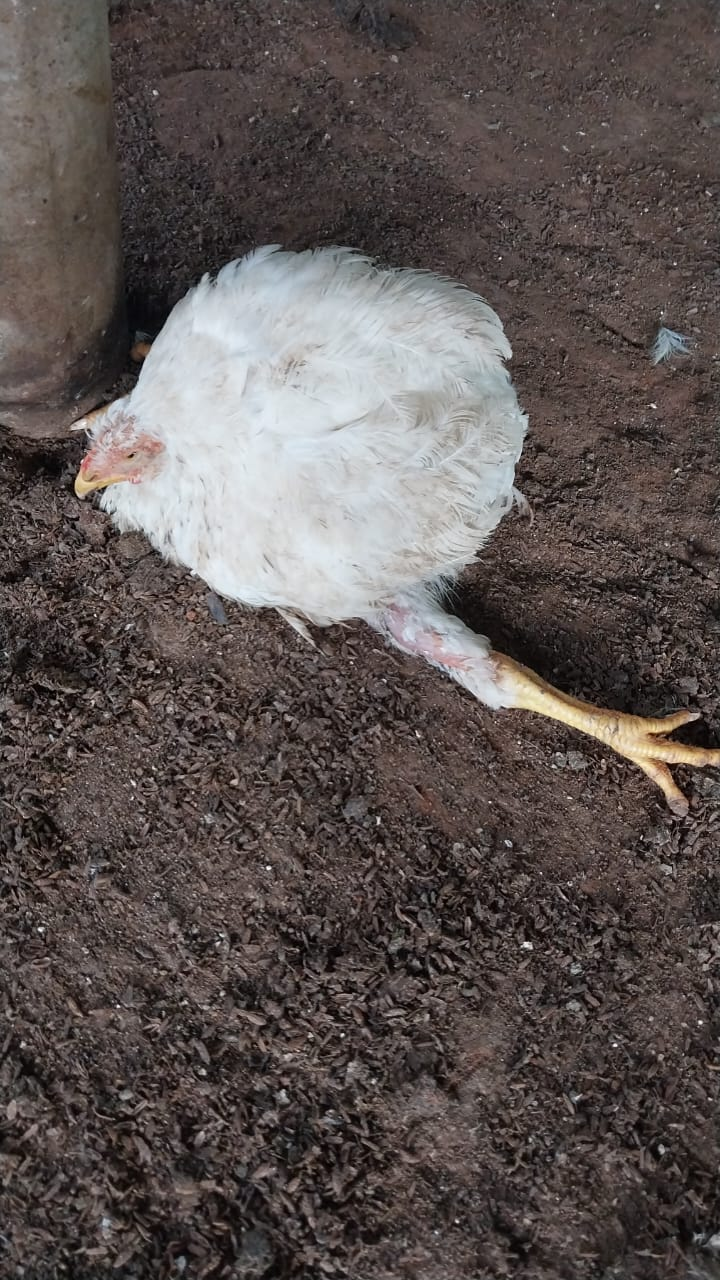Unhealthy: (55, 226, 714, 863)
